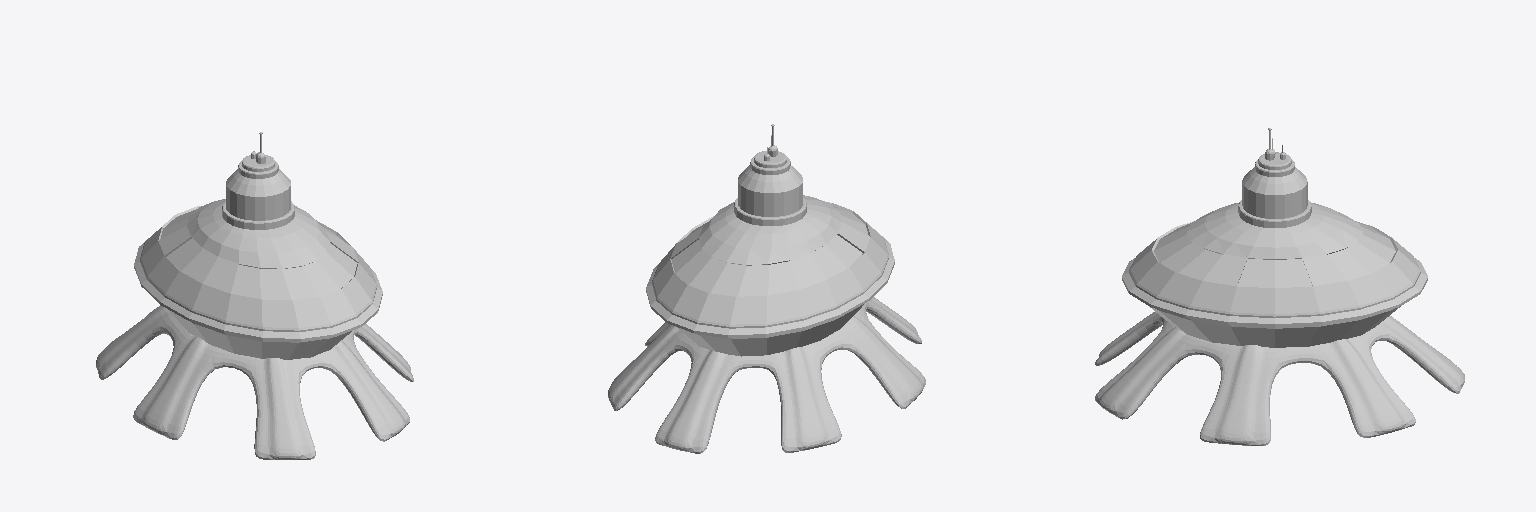
File: Architecture3.obj
The picture shows the model from 3 angles: view 1: azimuth 30°, elevation 25°; view 2: azimuth 150°, elevation 25°; view 3: azimuth 270°, elevation 25°; orthographic projection.
Parts seen in each view (by area): view 1: Cylinder005; view 2: Cylinder005; view 3: Cylinder005.
Boxes of the visible parts, <box> form: Cylinder005: <box>96,132,413,459</box>; Cylinder005: <box>608,124,925,453</box>; Cylinder005: <box>1095,128,1464,445</box>.
Bounding box in the file's own units: 1399 × 1316 × 1729.